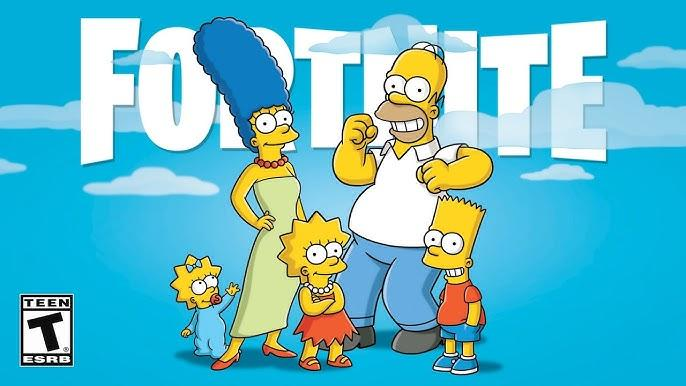Bart: (416, 184, 528, 377)
Homer: (354, 42, 464, 359)
Lisa: (274, 205, 365, 373)
Maggie: (162, 256, 256, 364)
Marge: (190, 17, 310, 370)
